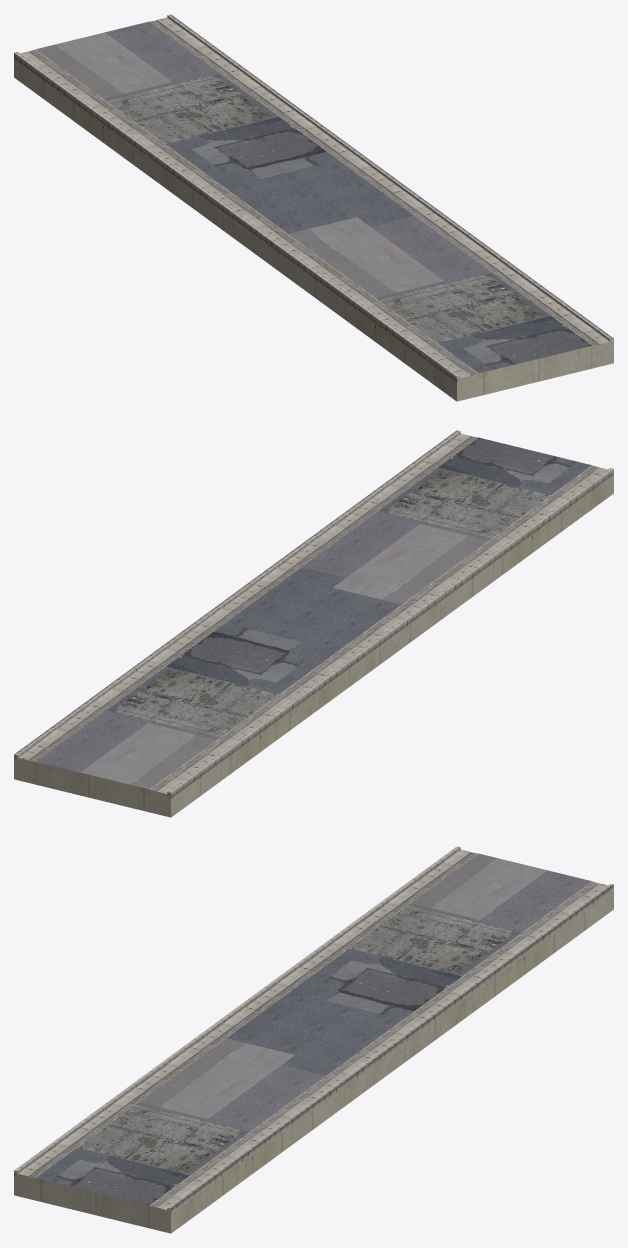
The model's file is road_c1_st3.fbx.
3 views of the same model, one above another, from view 1: azimuth 30°, elevation 25°; view 2: azimuth 150°, elevation 25°; view 3: azimuth 330°, elevation 25° (orthographic).
Visible parts, largest first — view 1: road_c1_st3; view 2: road_c1_st3; view 3: road_c1_st3.
Part boxes in pixels (x1,y1,x2,y2): road_c1_st3: (14,14,613,401); road_c1_st3: (14,430,613,817); road_c1_st3: (14,846,613,1233).
Bounding box in the file's own units: 430 × 65 × 2100.
